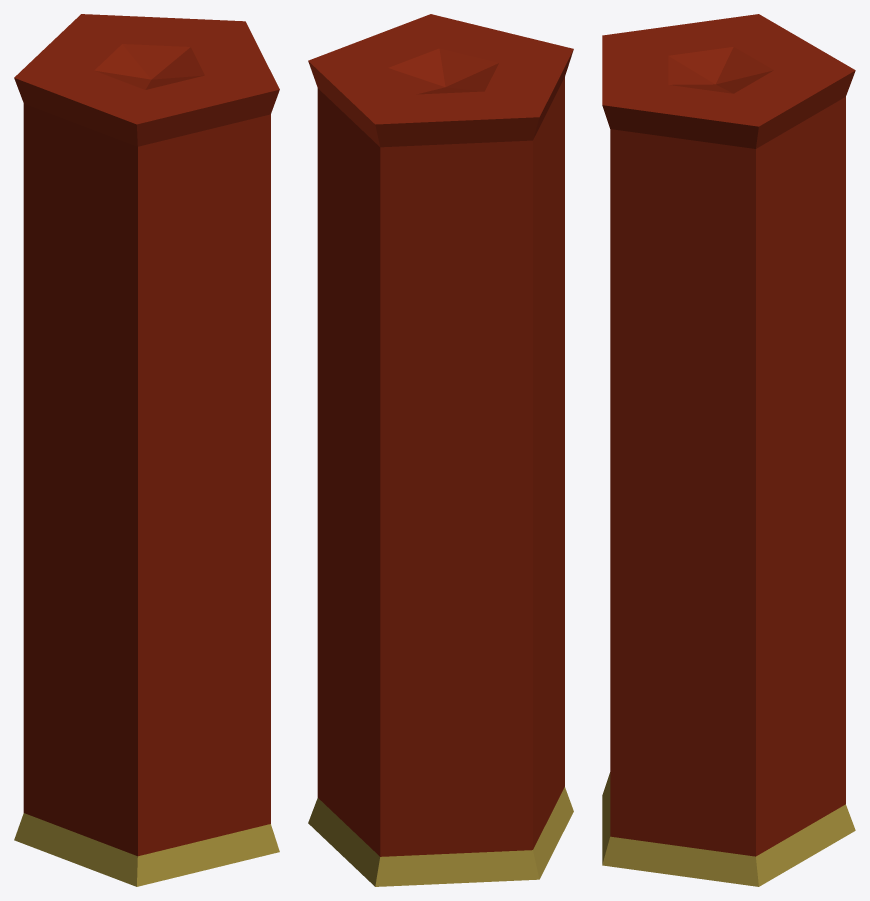
File: LPWarPack_ShotgunRound.fbx
3 renders of one model, left to right at view 1: azimuth 30°, elevation 25°; view 2: azimuth 150°, elevation 25°; view 3: azimuth 270°, elevation 25°, orthographic.
Visible parts, largest first — view 1: ShotgunRound; view 2: ShotgunRound; view 3: ShotgunRound.
Part boxes in pixels (x1,y1,x2,y2): ShotgunRound: (14,14,279,886); ShotgunRound: (308,14,573,886); ShotgunRound: (602,14,855,886).
Bounding box in the file's own units: 1.83 × 5.76 × 1.74.
